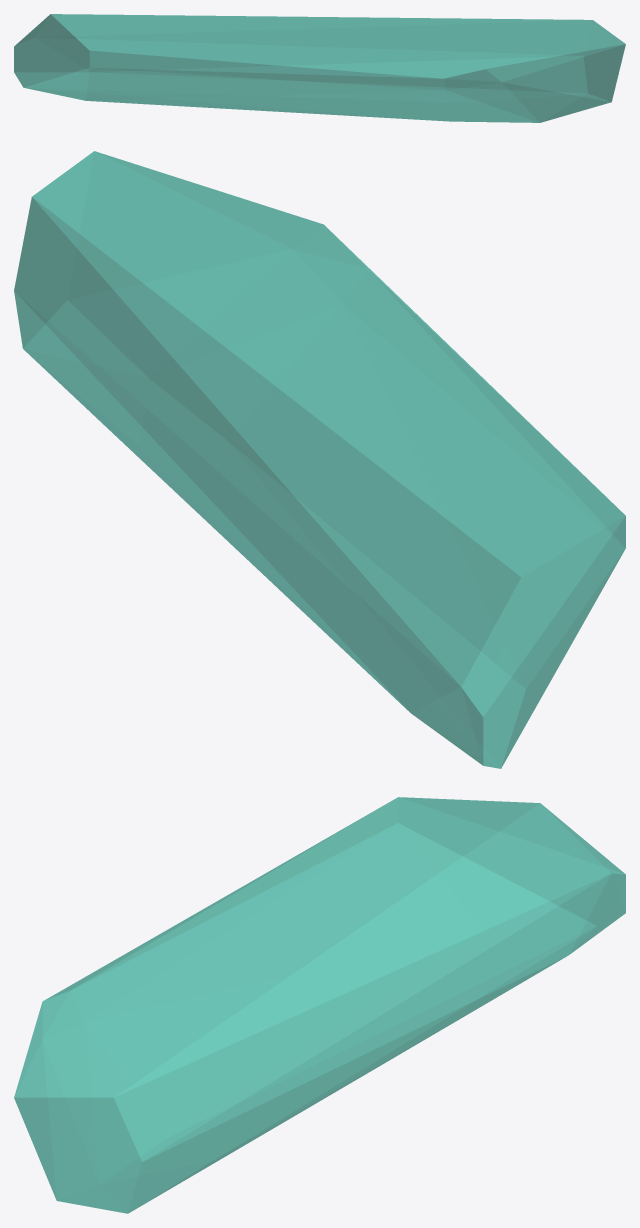
3 views of the same model, one above another, from view 1: azimuth 30°, elevation 25°; view 2: azimuth 150°, elevation 25°; view 3: azimuth 270°, elevation 25° (orthographic). The views are drawn at different scales.
Visible parts, largest first — view 1: Shape_IndexedFaceSet.016_Shape_IndexedFaceSet.5907; view 2: Shape_IndexedFaceSet.016_Shape_IndexedFaceSet.5907; view 3: Shape_IndexedFaceSet.016_Shape_IndexedFaceSet.5907.
Boxes of the visible parts, bbox=[...] form: Shape_IndexedFaceSet.016_Shape_IndexedFaceSet.5907: bbox=[14, 14, 625, 122]; Shape_IndexedFaceSet.016_Shape_IndexedFaceSet.5907: bbox=[14, 151, 625, 768]; Shape_IndexedFaceSet.016_Shape_IndexedFaceSet.5907: bbox=[14, 797, 625, 1213].
Bounding box in the file's own units: 0.0985 × 0.0197 × 0.0847.
